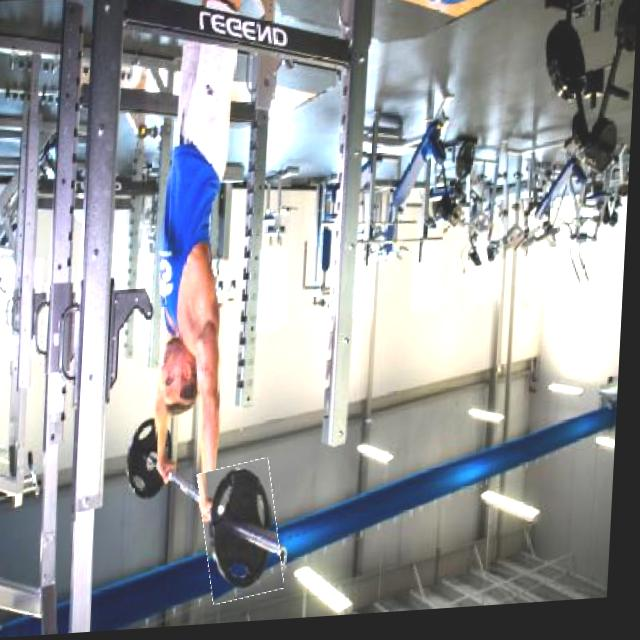barbell: (203, 464, 291, 607)
